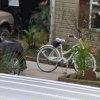Bicycle: (32, 33, 97, 77)
